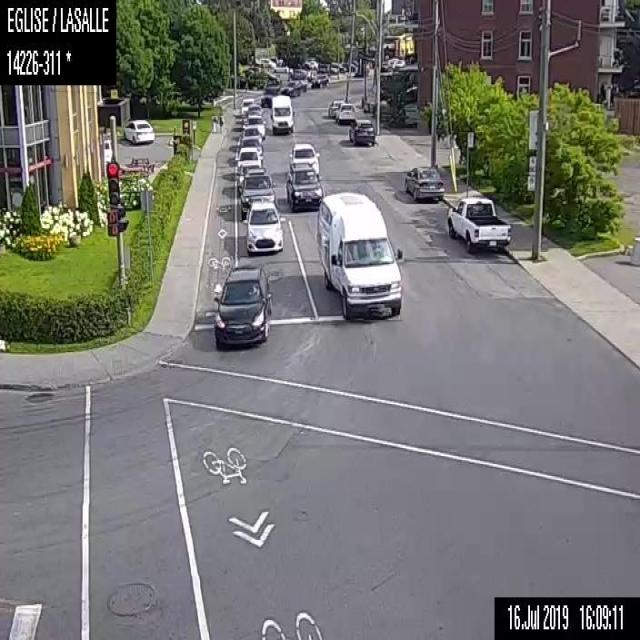pedestrian: (216, 111, 224, 133), (210, 111, 216, 133)
vehicle: (317, 190, 404, 318), (214, 264, 272, 352), (444, 195, 512, 252), (243, 199, 283, 256), (284, 161, 323, 208), (238, 171, 276, 211), (404, 163, 444, 200), (270, 95, 296, 134), (287, 142, 318, 172), (122, 117, 154, 143), (347, 118, 374, 146), (234, 146, 263, 172), (260, 84, 288, 107), (238, 126, 263, 145), (243, 114, 264, 134), (335, 102, 356, 121), (284, 78, 306, 94), (327, 99, 345, 116), (288, 67, 311, 80), (310, 72, 329, 87), (246, 103, 263, 115), (240, 98, 253, 113), (258, 57, 274, 68), (272, 64, 288, 73)
